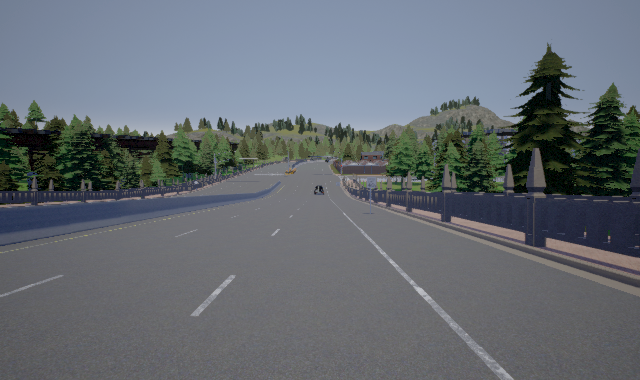traffic_sign: (367, 177, 376, 188)
vehicle: (313, 184, 324, 195)
